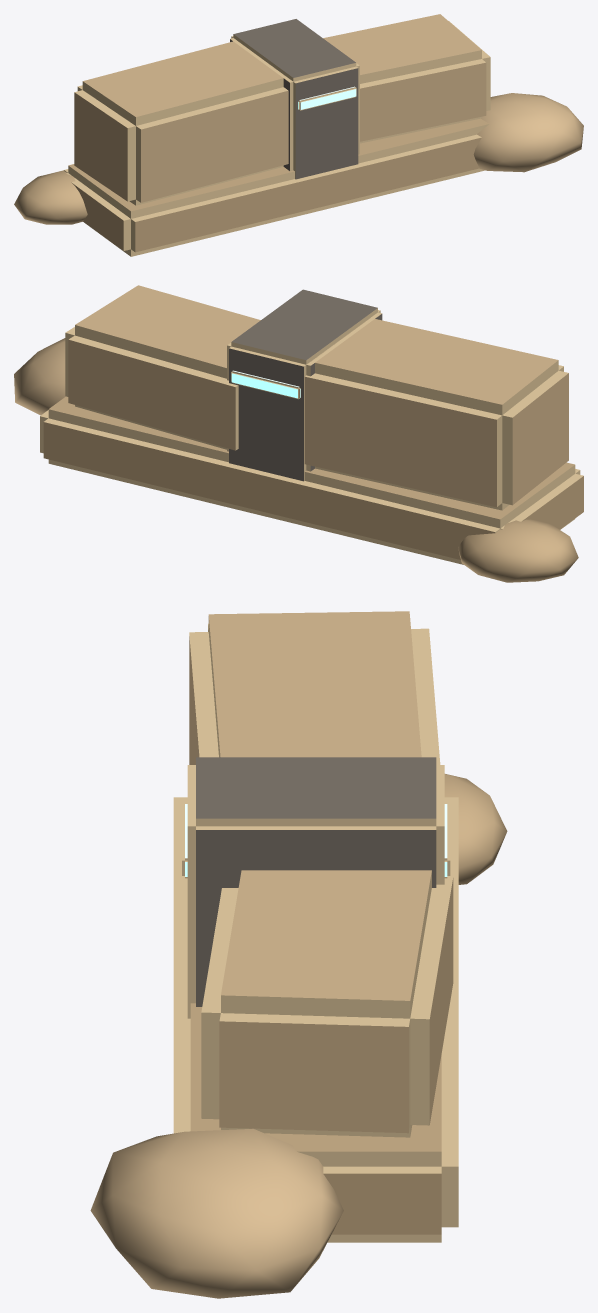
Rendered from TILE_CoverLow.glb.
3 views of the same model, one above another, from view 1: azimuth 30°, elevation 25°; view 2: azimuth 150°, elevation 25°; view 3: azimuth 270°, elevation 25° (orthographic). The views are drawn at different scales.
Visible parts, largest first — view 1: TILE_CoverLow; view 2: TILE_CoverLow; view 3: TILE_CoverLow.
Boxes of the visible parts, left/top/right/bottom form: TILE_CoverLow: left=14, top=14, right=583, bottom=256; TILE_CoverLow: left=14, top=285, right=583, bottom=582; TILE_CoverLow: left=90, top=611, right=507, bottom=1298.
Bounding box in the file's own units: 4.2 × 1.09 × 1.49.
